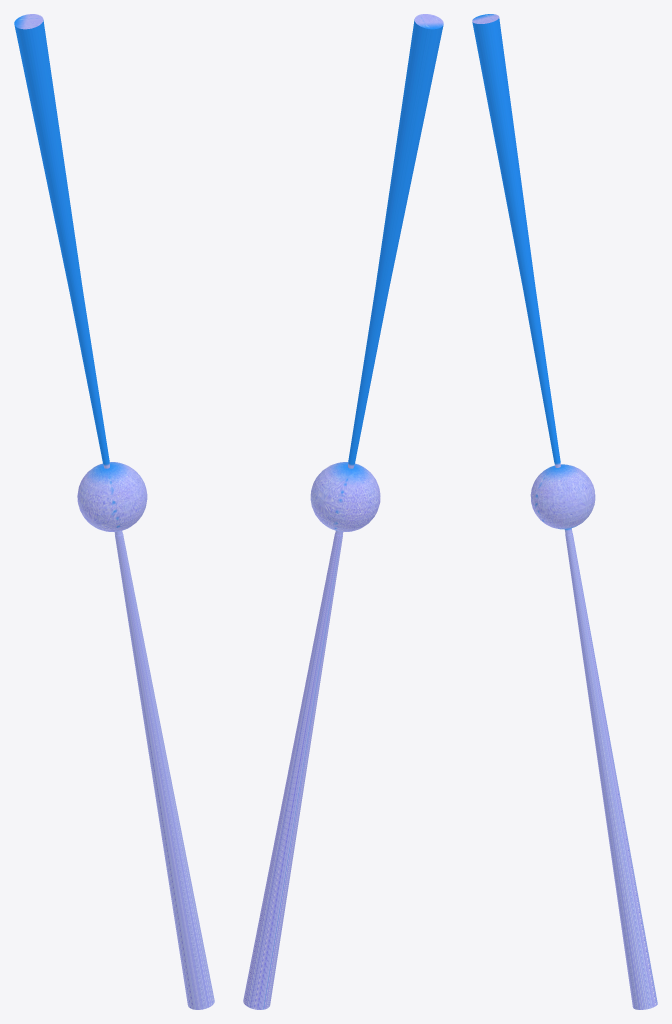
File: neutronstar-transformed.glb
3 renders of one model, left to right at view 1: azimuth 30°, elevation 25°; view 2: azimuth 150°, elevation 25°; view 3: azimuth 330°, elevation 25°, orthographic. The views are drawn at different scales.
Visible parts, largest first — view 1: Sphere; view 2: Sphere; view 3: Sphere.
Boxes of the visible parts, x1,y1,x2,y2 form: Sphere: (14, 14, 214, 1009); Sphere: (243, 14, 443, 1009); Sphere: (472, 14, 657, 1009).
Size of the model in its own units: 6.47 by 32.33 by 2.
1 material, 1 textured.
